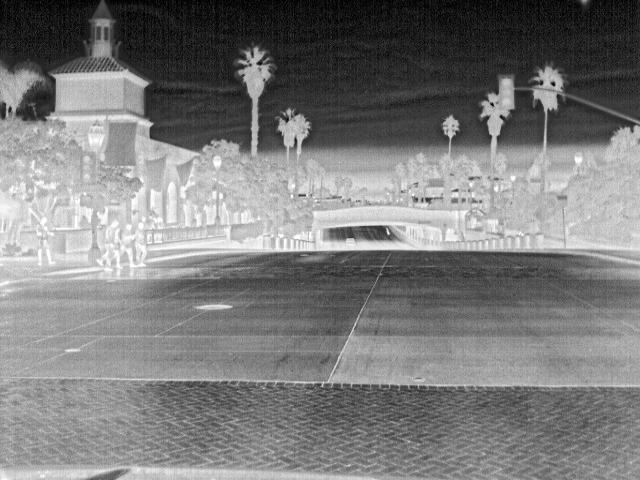car: (345, 236, 358, 248)
person: (32, 214, 58, 264), (100, 219, 120, 269), (117, 224, 137, 269), (133, 218, 145, 266)
